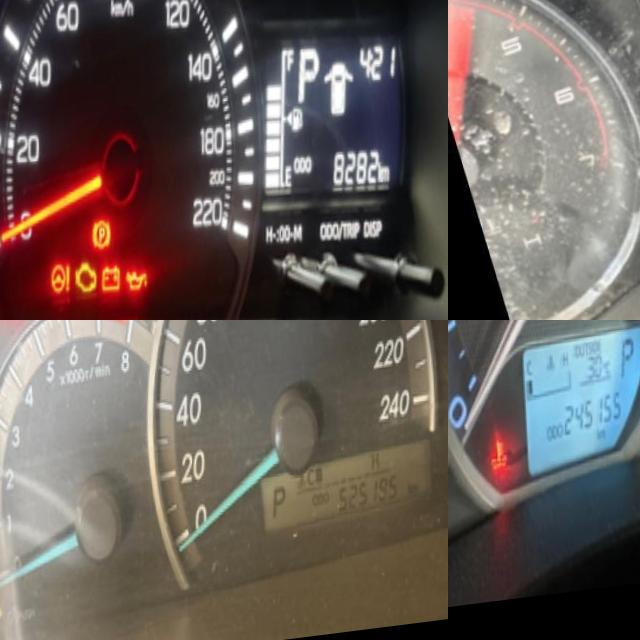High Engine Coolant Temperature: (483, 441, 506, 485)
